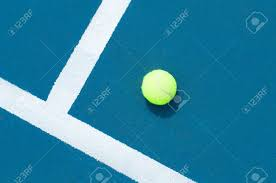tennis_ball: (141, 68, 176, 104)
